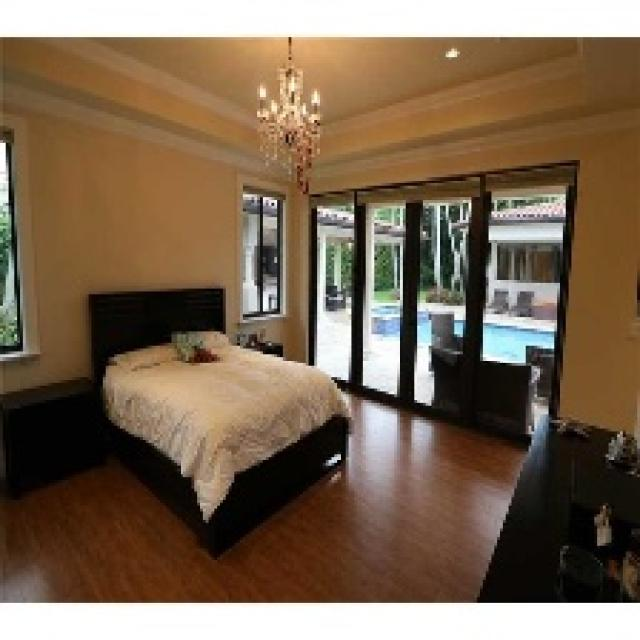Bed: (86, 286, 351, 557)
